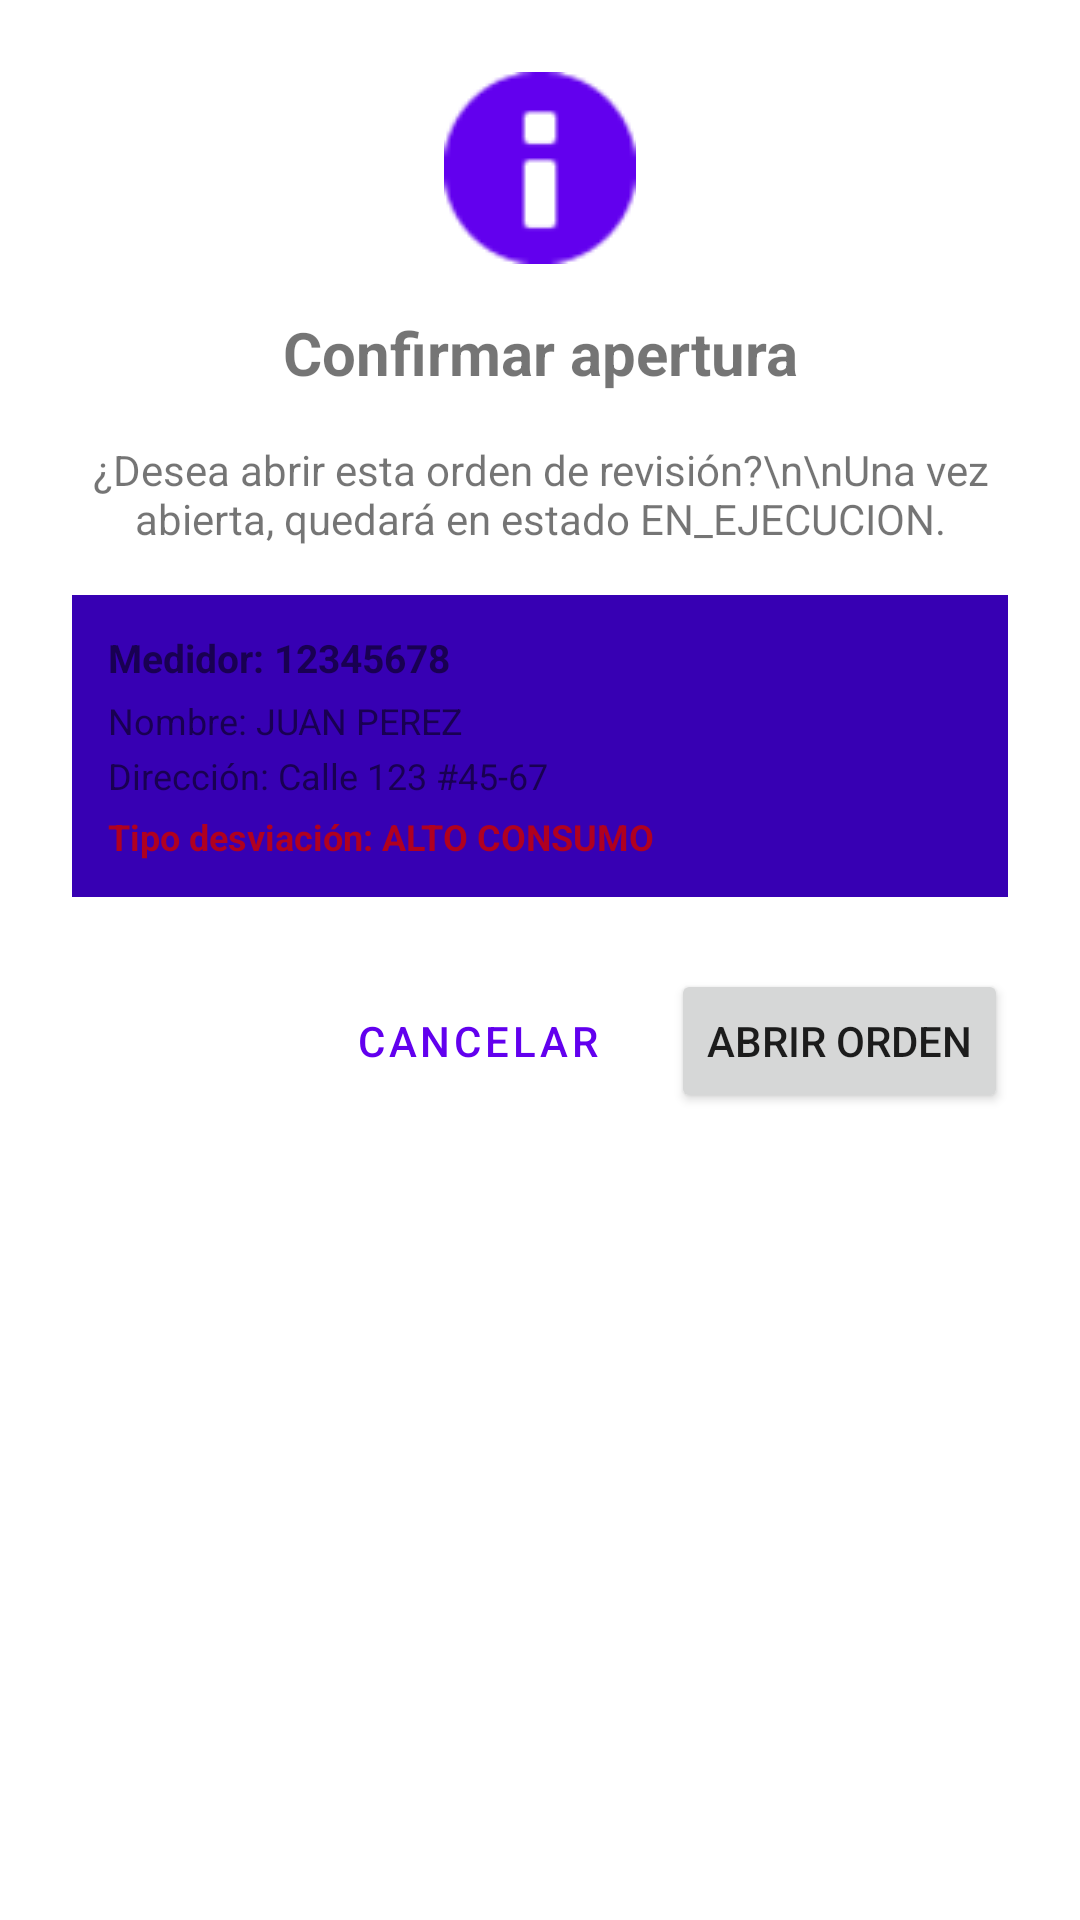

Named icons in this screenshot (1080x1920) and their bounding boxes, (x1,y1,x2,y2):
info: (444,72,636,264)
